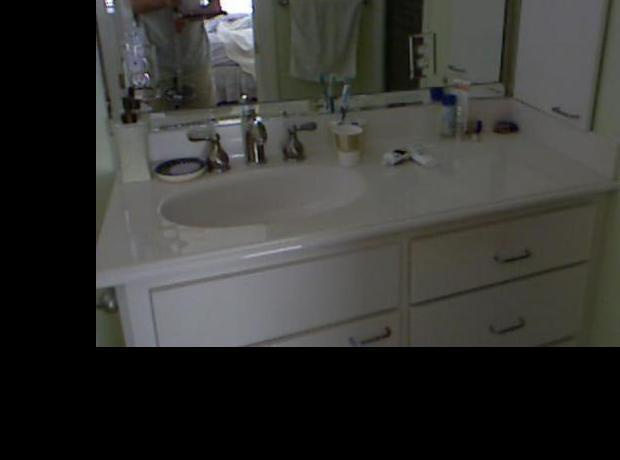Lavamanos: (141, 102, 361, 242)
